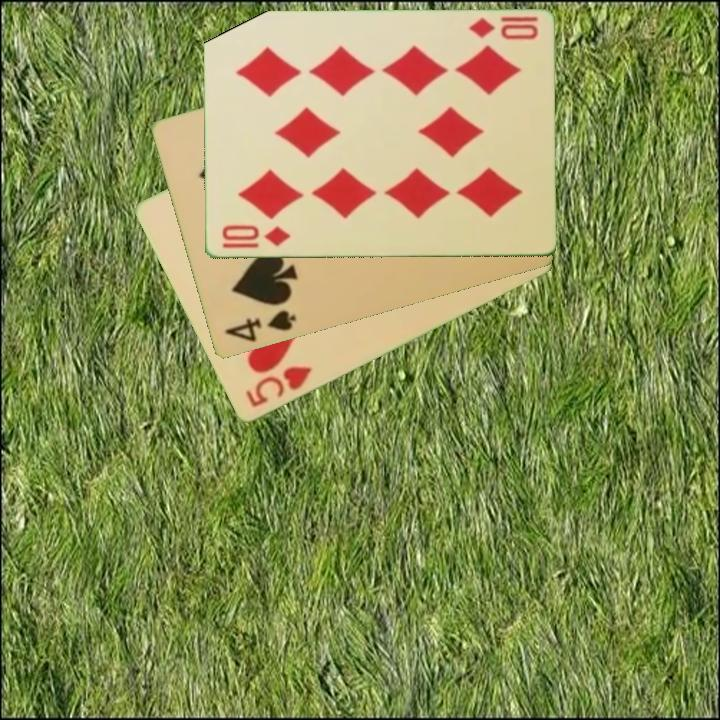10d: (465, 14, 541, 43), (218, 222, 292, 250)
4s: (221, 307, 299, 346)
5h: (241, 363, 314, 411)
